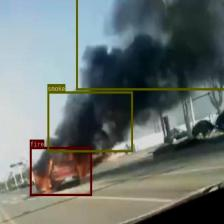fire: (29, 146, 92, 196)
smoke: (75, 0, 224, 90), (47, 91, 133, 152)
